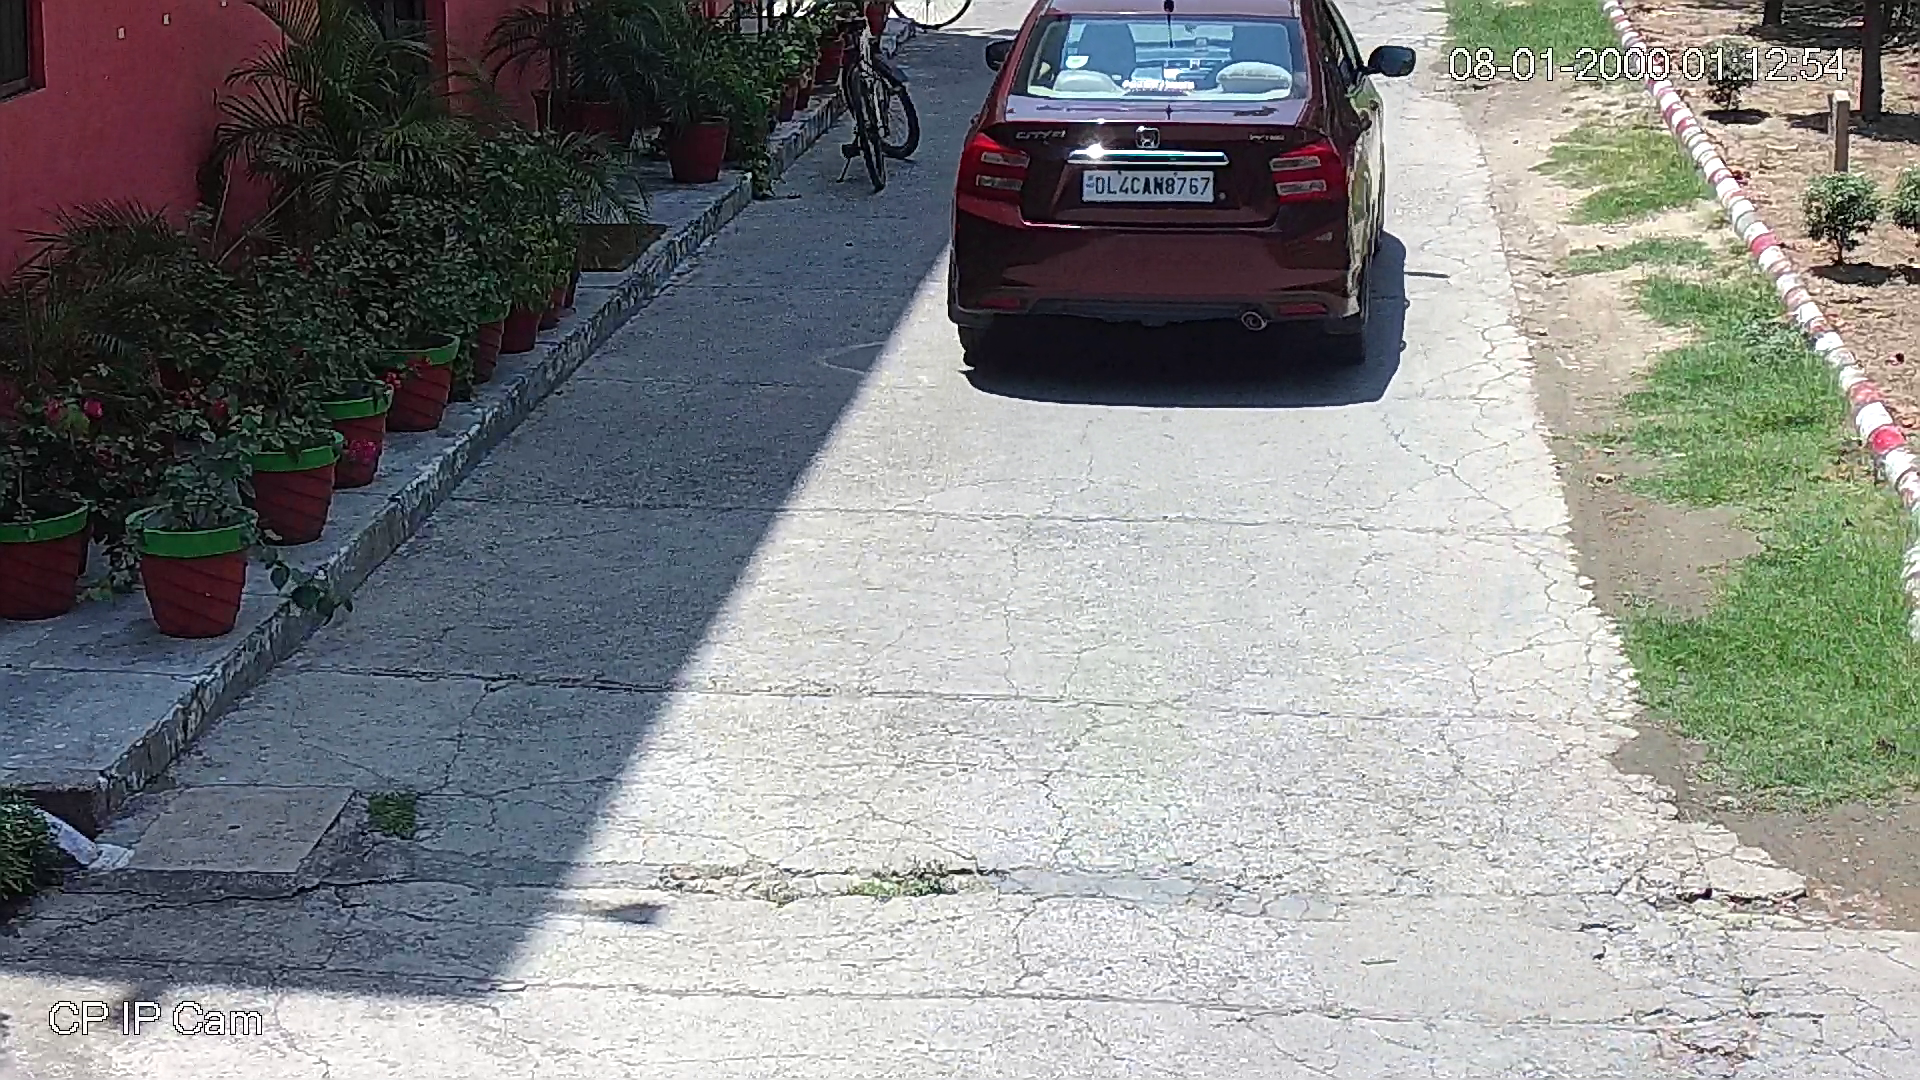plate: (1077, 164, 1222, 206)
